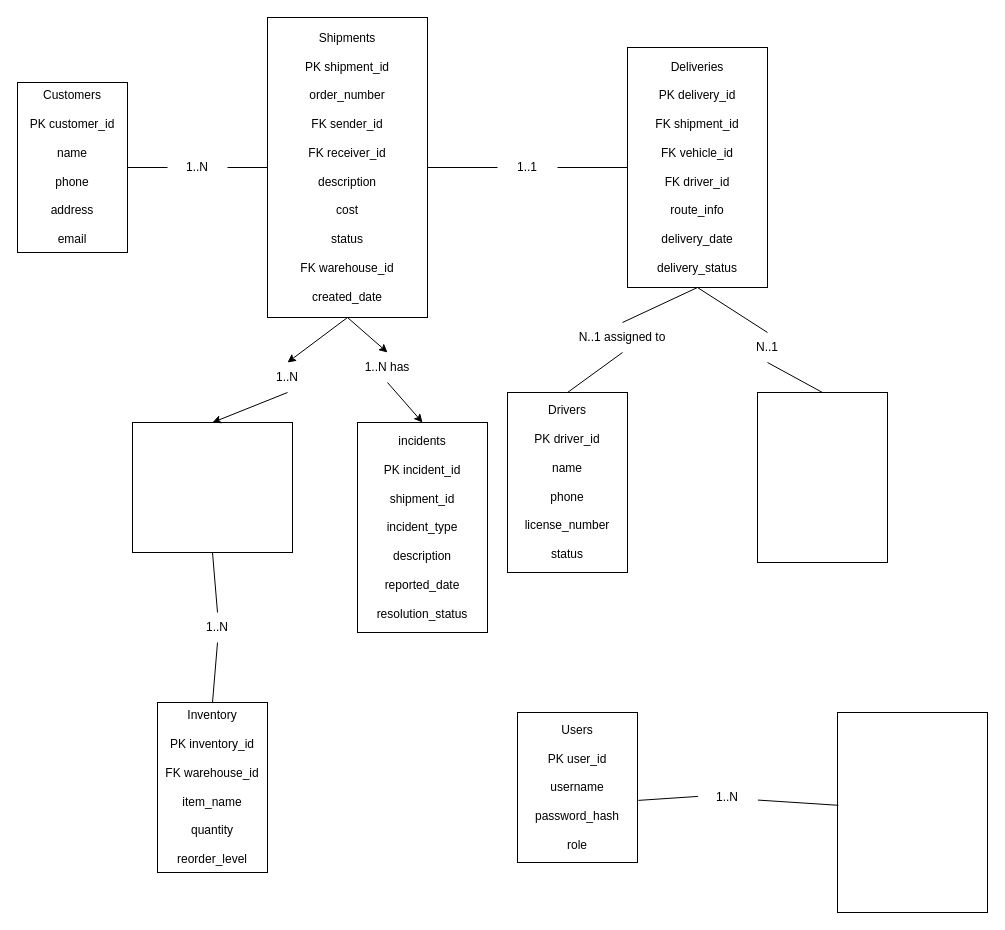
Some shapes in this 1005 by 930 pixel diagram are drawn without their labels. Each missing label, with the box of its shape:
AuditLog PK log_id FK user_id action table_name timestamp: (836, 712, 988, 912)
Vehicles PK vehicle_id registration_number capacity status last_maintenance: (756, 392, 888, 562)
Warehouses PK warehouse_id name address phone: (132, 422, 292, 552)
